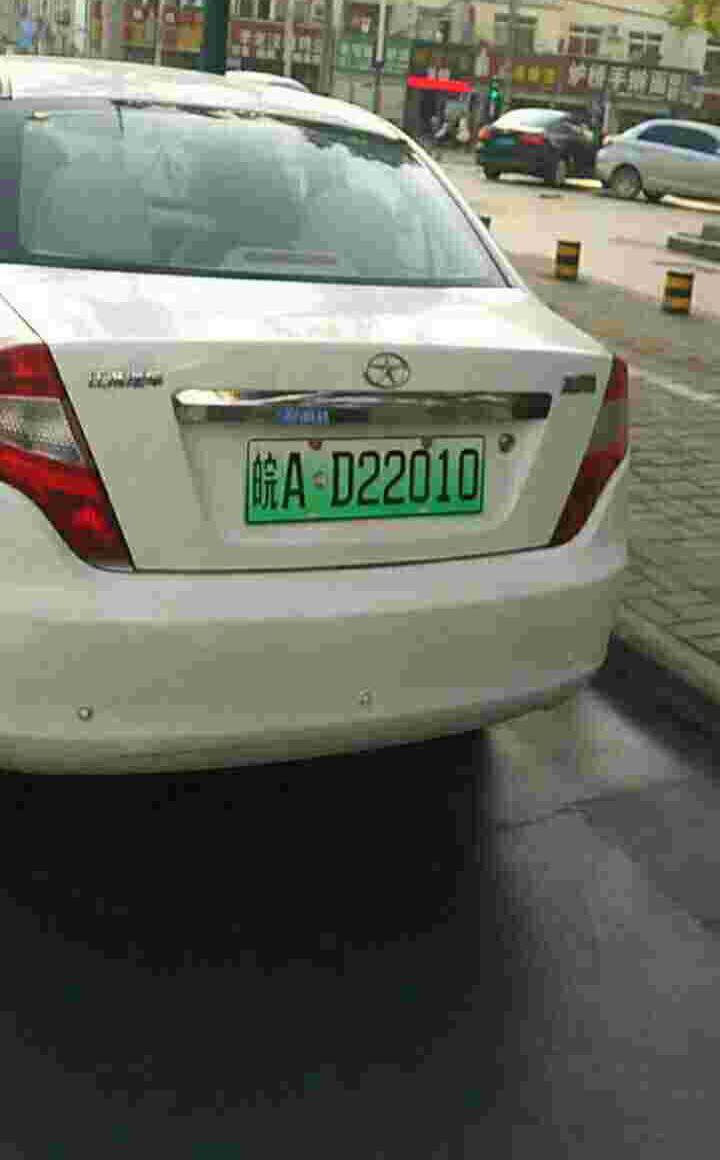car: (224, 433, 499, 525)
